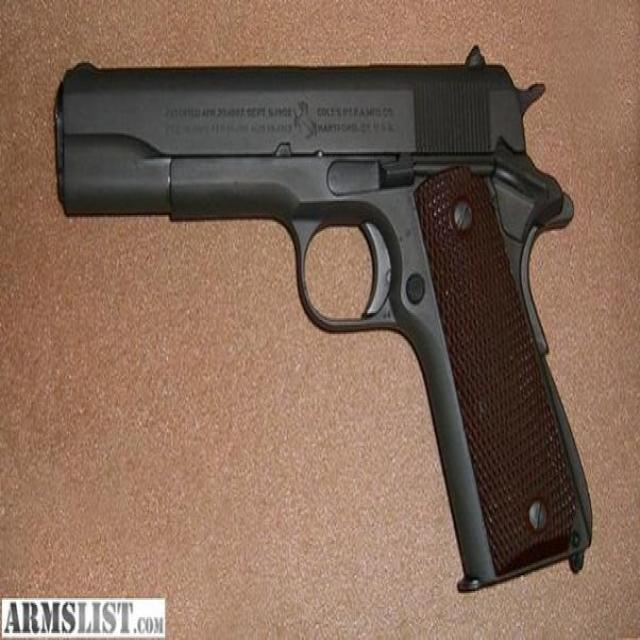HandGun: (53, 47, 594, 595)
